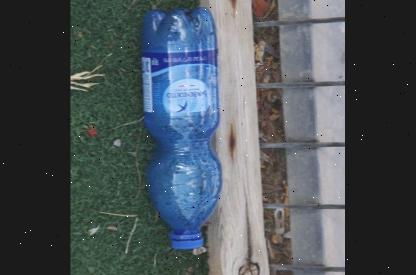Plastic Bottle: (134, 4, 224, 251)
